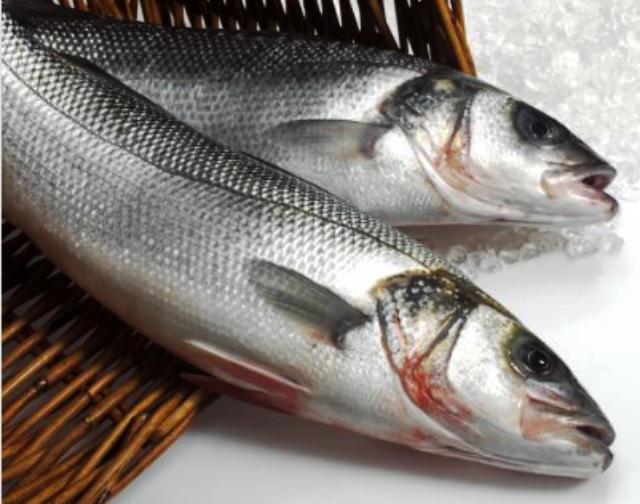Healthy Fish: (0, 8, 616, 480), (3, 0, 616, 228)
